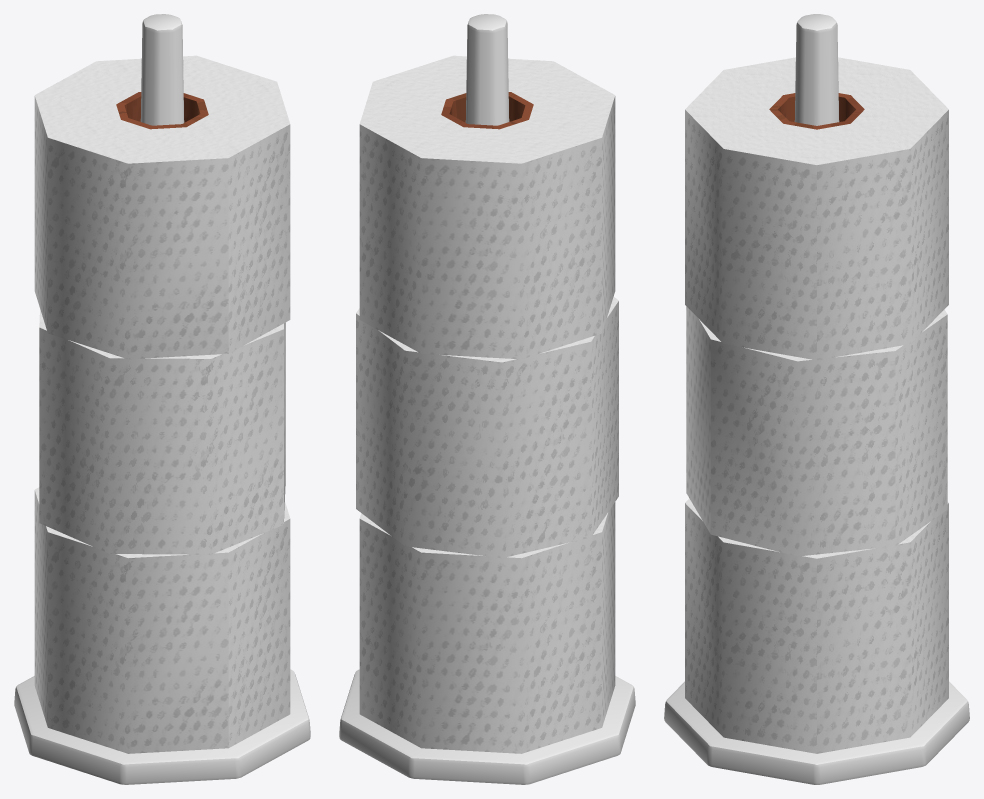
The model's file is Toilet_Roll_Holder.fbx.
3 renders of one model, left to right at view 1: azimuth 30°, elevation 25°; view 2: azimuth 150°, elevation 25°; view 3: azimuth 270°, elevation 25°, orthographic.
Visible parts, largest first — view 1: Toilet Paper003, Toilet Paper001, Toilet Paper002, Toilet_Paper_Holder; view 2: Toilet Paper003, Toilet Paper002, Toilet Paper001, Toilet_Paper_Holder; view 3: Toilet Paper003, Toilet Paper001, Toilet Paper002, Toilet_Paper_Holder.
Part boxes in pixels (x1=…): Toilet Paper003: x1=34, y1=55, x2=290, y2=359; Toilet Paper001: x1=34, y1=487, x2=290, y2=753; Toilet Paper002: x1=39, y1=309, x2=285, y2=554; Toilet_Paper_Holder: x1=14, y1=14, x2=310, y2=784; Toilet Paper003: x1=359, y1=55, x2=615, y2=359; Toilet Paper002: x1=356, y1=297, x2=618, y2=558; Toilet Paper001: x1=359, y1=502, x2=615, y2=753; Toilet_Paper_Holder: x1=339, y1=14, x2=635, y2=784; Toilet Paper003: x1=685, y1=57, x2=948, y2=360; Toilet Paper001: x1=685, y1=498, x2=948, y2=753; Toilet Paper002: x1=686, y1=306, x2=947, y2=556; Toilet_Paper_Holder: x1=664, y1=14, x2=969, y2=784.
Size of the model in its own units: 47.94 by 121 by 47.94.
Materials: 3 (2 with a texture image).
